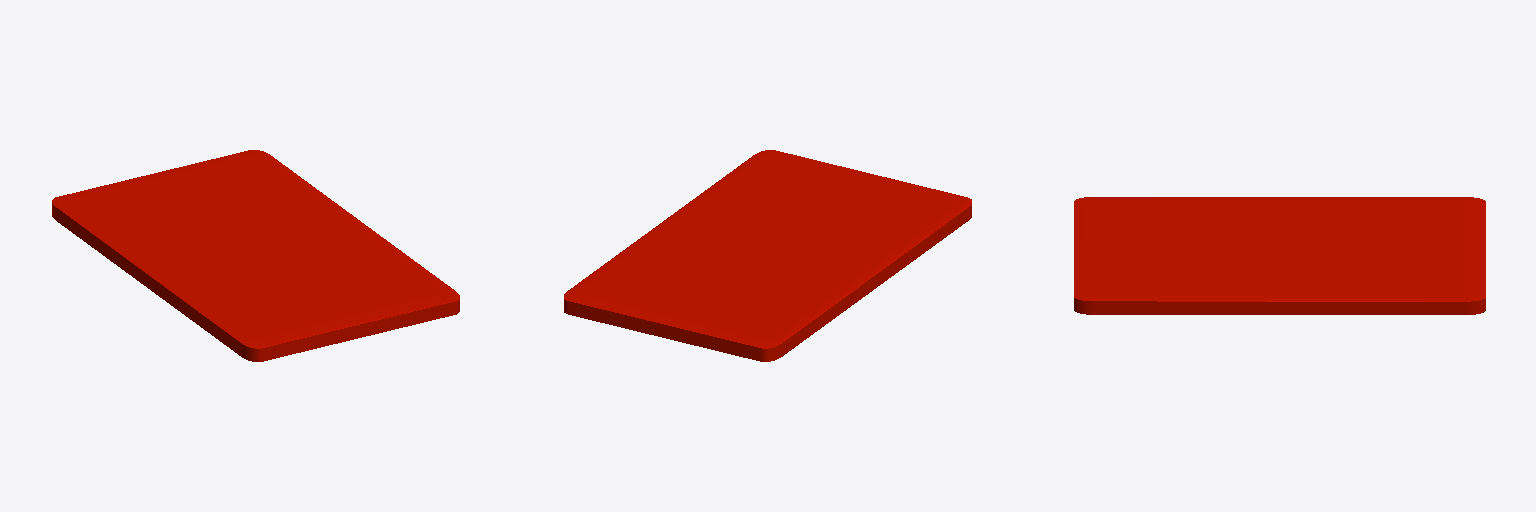
File: card.obj
The picture shows the model from 3 angles: view 1: azimuth 30°, elevation 25°; view 2: azimuth 150°, elevation 25°; view 3: azimuth 270°, elevation 25°; orthographic projection.
Parts seen in each view (by area): view 1: Cube_Cube.001; view 2: Cube_Cube.001; view 3: Cube_Cube.001.
Part boxes in pixels (x1,y1,x2,y2): Cube_Cube.001: (52, 150, 459, 361); Cube_Cube.001: (564, 150, 971, 361); Cube_Cube.001: (1074, 197, 1485, 314).
Size of the model in its own units: 3.01 by 0.2 by 5.